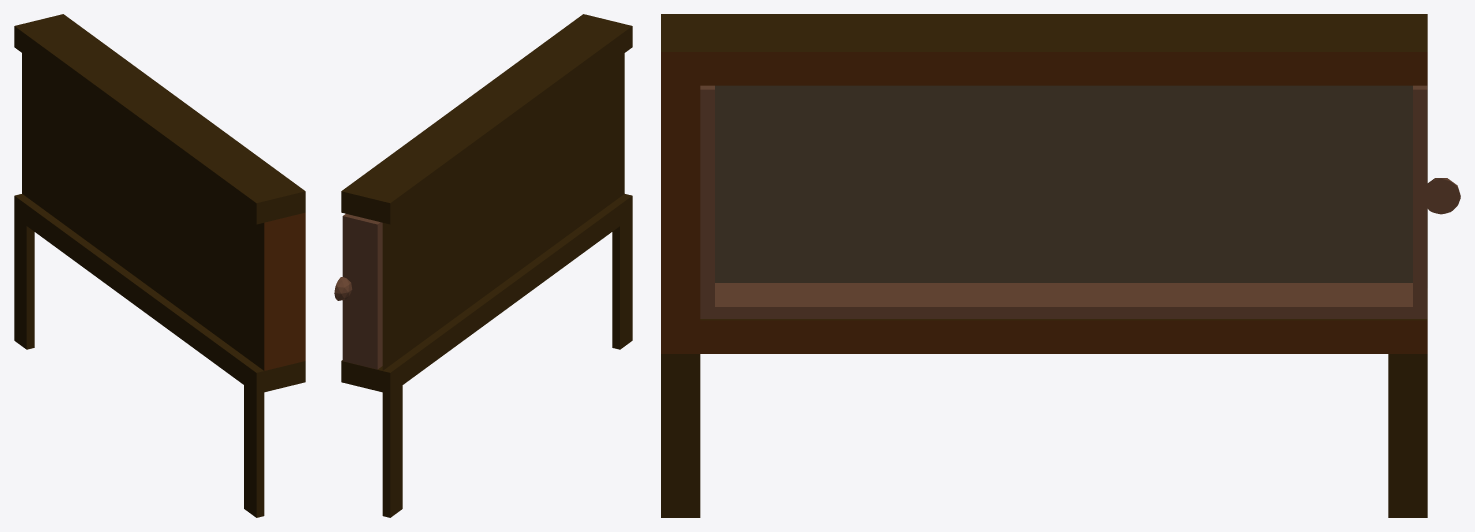
File: Desk.fbx
3 views of the same model, side by side, from view 1: azimuth 30°, elevation 25°; view 2: azimuth 150°, elevation 25°; view 3: azimuth 270°, elevation 25° (orthographic). The views are drawn at different scales.
Visible parts, largest first — view 1: Desk; view 2: Desk, Drawer; view 3: Drawer, Desk, DrawerHandle.
Part boxes in pixels (<box>): Desk: <box>14,14,305,517</box>; Desk: <box>341,14,632,517</box>; Drawer: <box>342,214,382,369</box>; Drawer: <box>700,85,1427,318</box>; Desk: <box>661,14,1427,517</box>; DrawerHandle: <box>1427,178,1460,214</box>.
Size of the model in its own units: 282 by 1724 by 2509.
